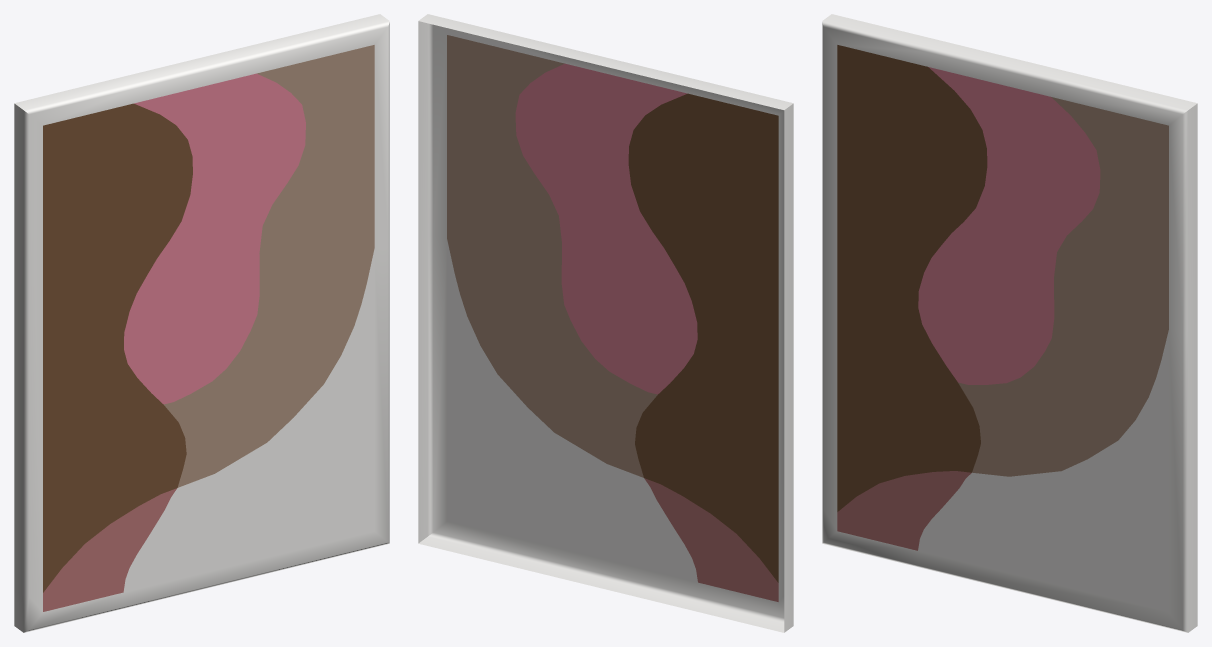
The model's file is Painting_6.glb.
3 renders of one model, left to right at view 1: azimuth 30°, elevation 25°; view 2: azimuth 150°, elevation 25°; view 3: azimuth 330°, elevation 25°, orthographic.
Visible parts, largest first — view 1: Painting_6; view 2: Painting_6; view 3: Painting_6.
Boxes of the visible parts, x1,y1,x2,y2 form: Painting_6: (14,14,389,632); Painting_6: (418,14,793,632); Painting_6: (822,14,1197,632).
Size of the model in its own units: 0.6566 by 0.8961 by 0.036.
Materials: 1 (1 with a texture image).
